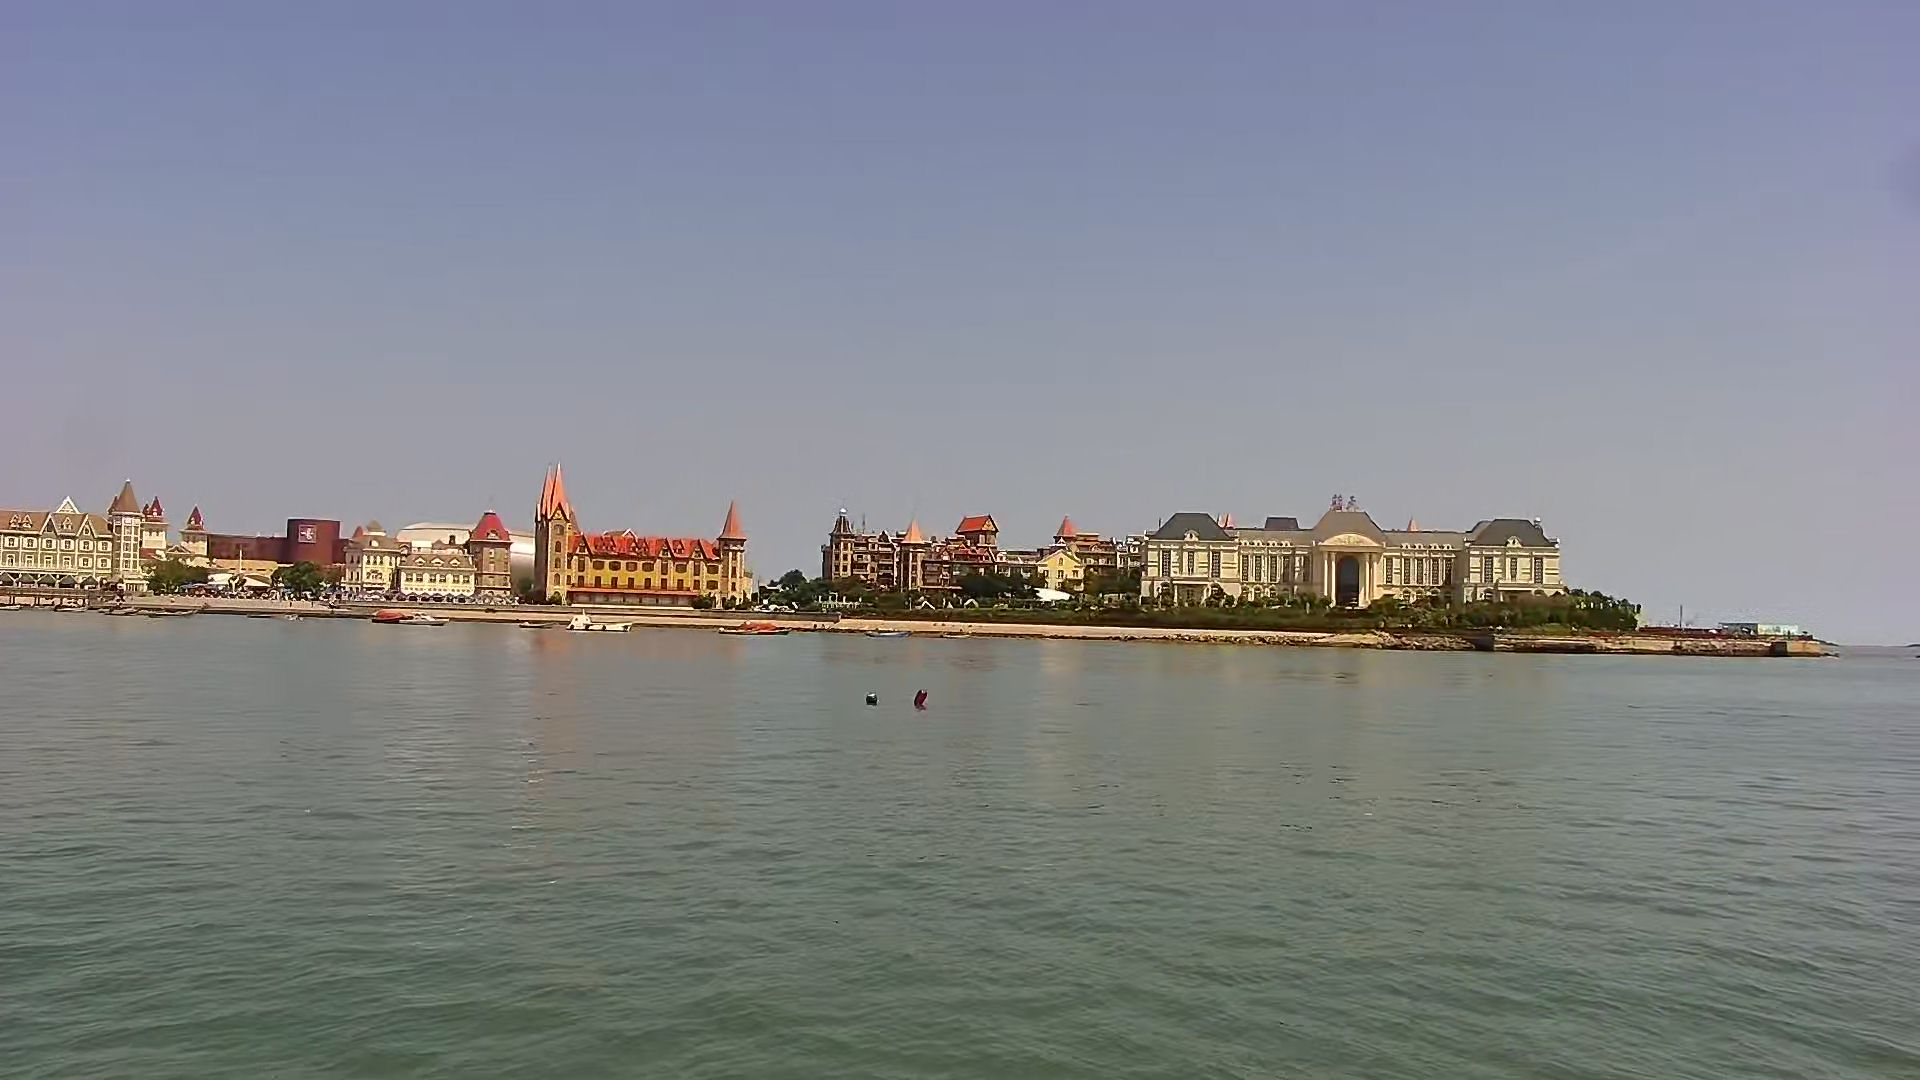ball: (864, 683, 877, 709)
rubbish: (909, 684, 938, 709)
